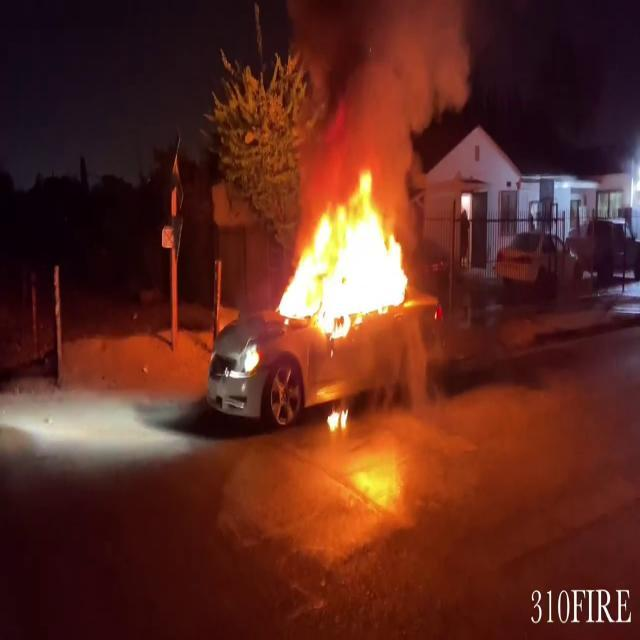Fire: (272, 165, 418, 338), (324, 398, 350, 438)
Smoke: (286, 0, 474, 176)
